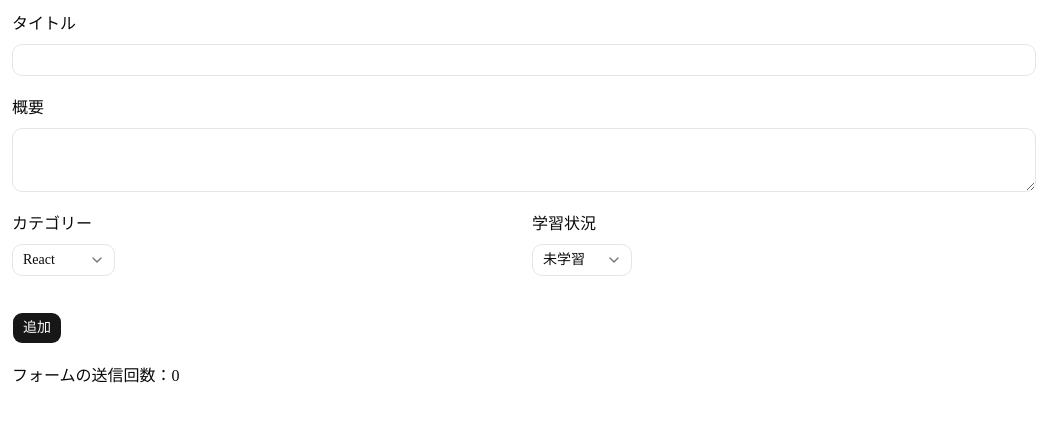
TechCardForm › タイトルが未入力の場合はエラーを表示する
Click the button "追加".
click(37, 328)  # box [12,312,62,344]
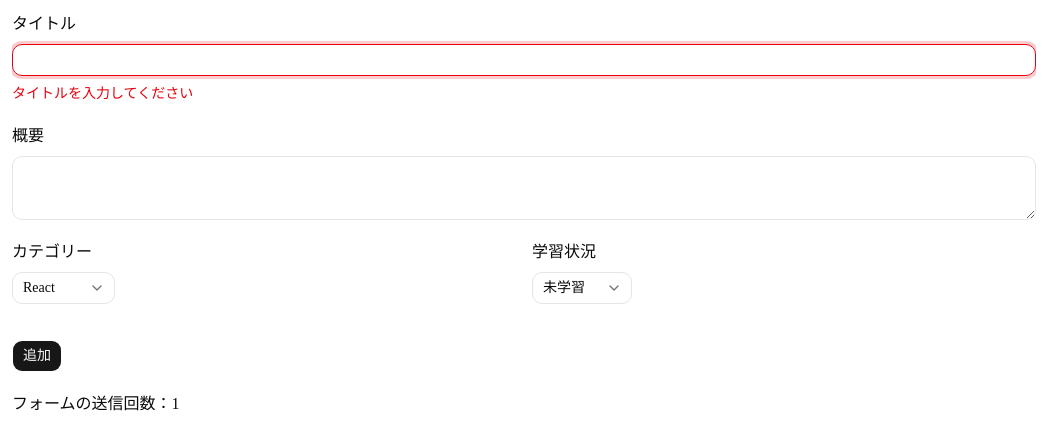
Expected: the message reads "タイトルを入力してください", [12,86,193,101]
